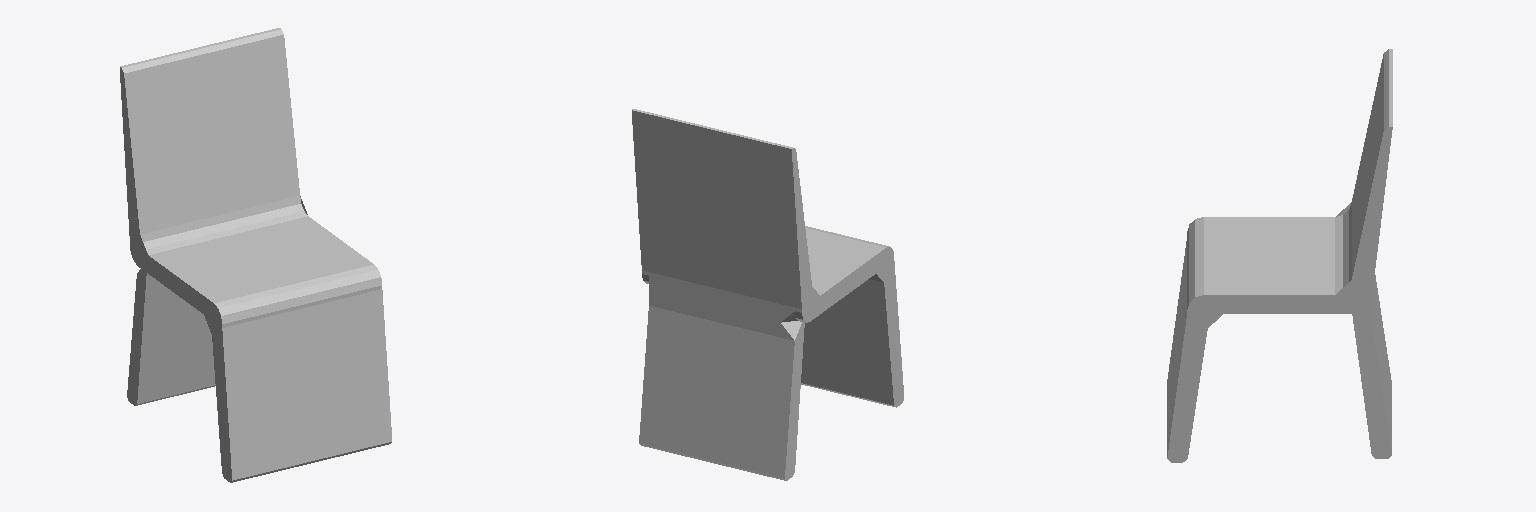
File: chair.obj
3 renders of one model, left to right at view 1: azimuth 30°, elevation 25°; view 2: azimuth 150°, elevation 25°; view 3: azimuth 270°, elevation 25°, orthographic.
Parts seen in each view (by area): view 1: Cube; view 2: Cube; view 3: Cube.
Boxes of the visible parts, box(x1,y1,x2,y2) form: Cube: box(120, 28, 391, 482); Cube: box(632, 109, 903, 480); Cube: box(1167, 49, 1392, 462).
Bounding box in the file's own units: 0.45 × 0.9 × 0.5488.